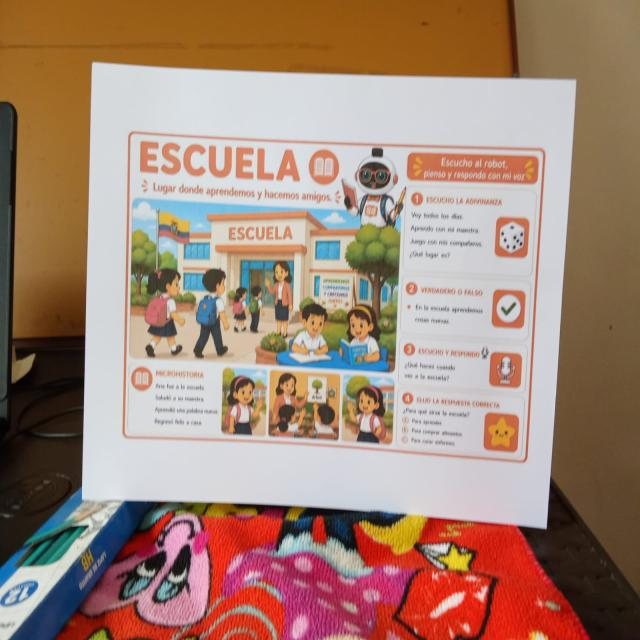escuela: (118, 125, 550, 468)
